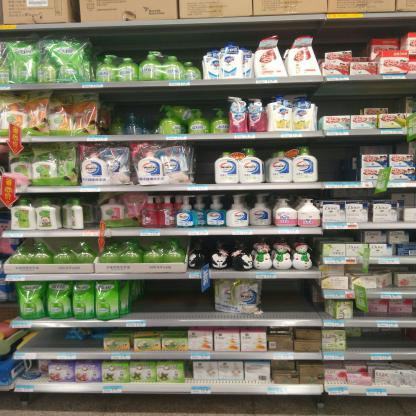Void: (133, 282, 209, 314), (314, 139, 359, 182), (264, 281, 314, 319), (349, 328, 416, 351), (18, 327, 63, 350), (316, 89, 356, 113), (360, 87, 405, 105), (193, 144, 214, 182), (366, 138, 402, 154), (70, 338, 100, 352), (84, 199, 97, 227)
